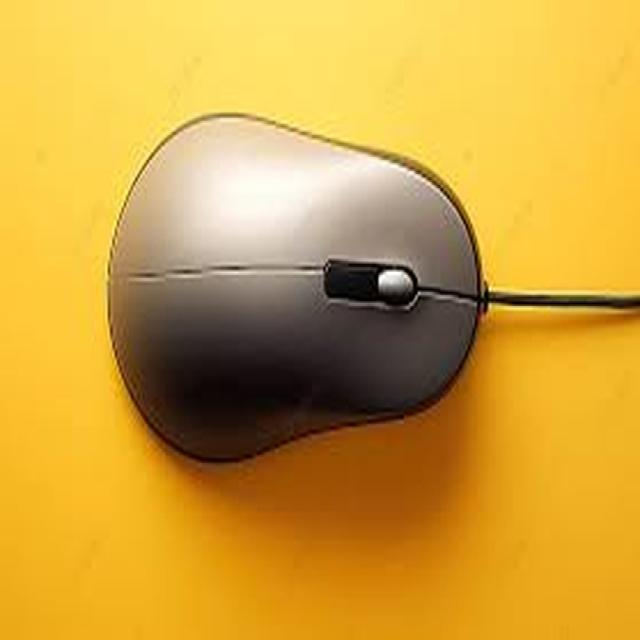mouse: (92, 70, 502, 478)
